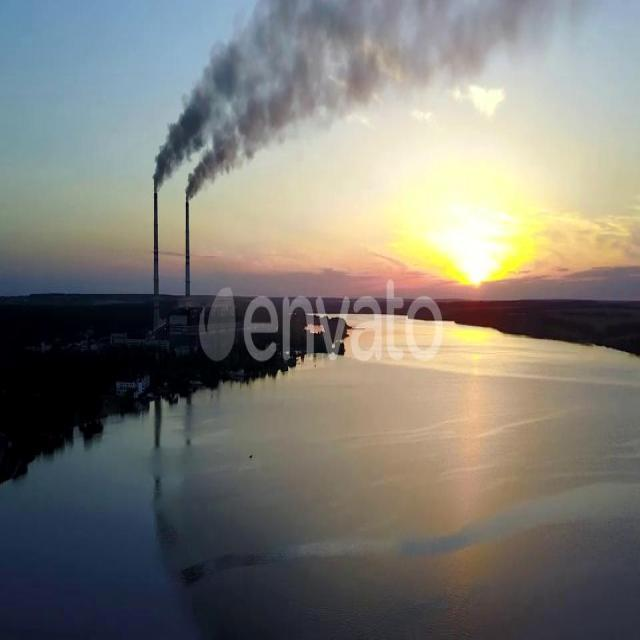Smoke: (148, 0, 386, 194)
